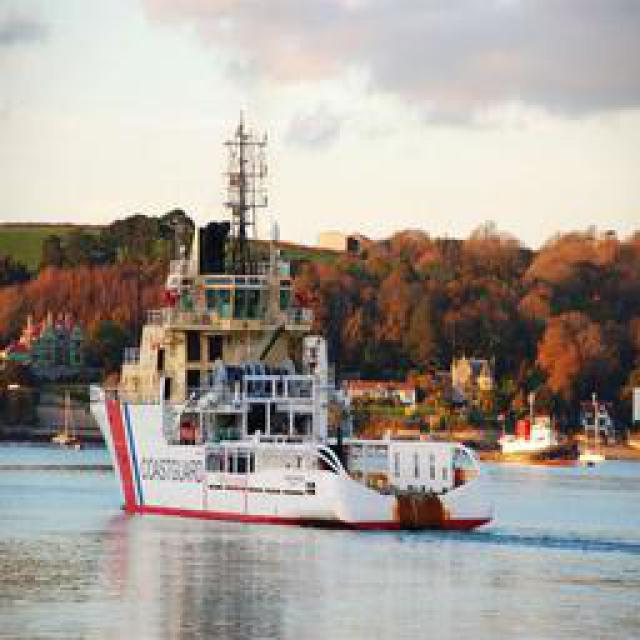Ship: (104, 353, 497, 531)
